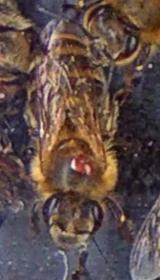varroa_mite: (60, 143, 105, 184)
